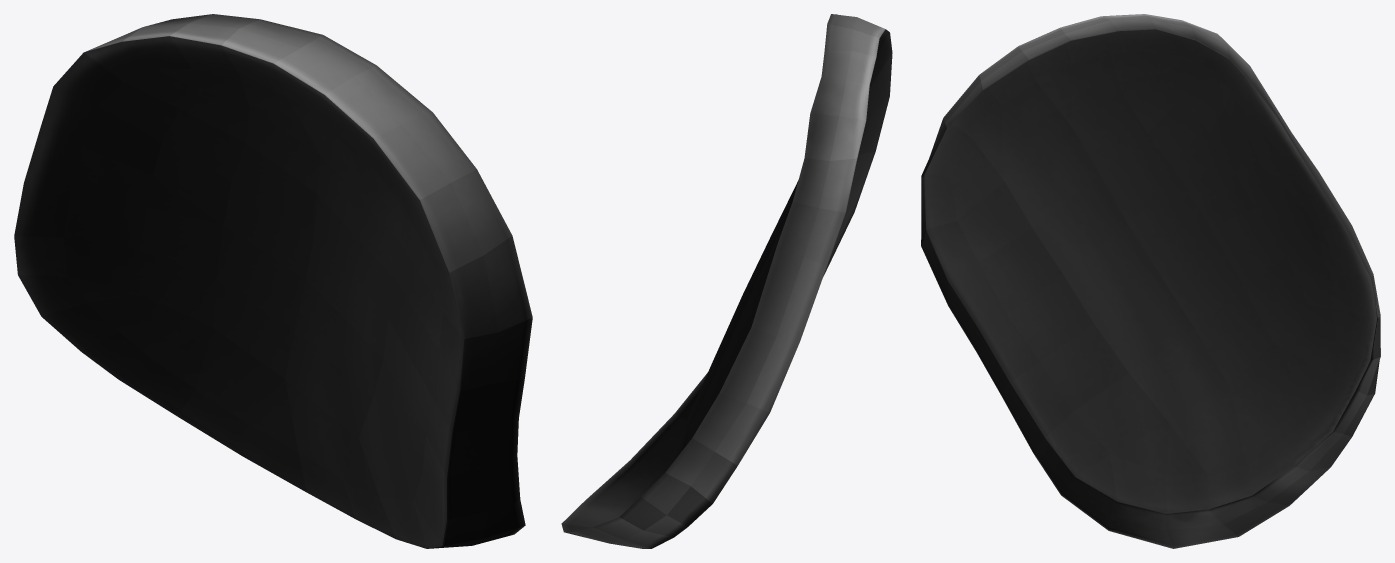
The model's file is pfd_mr_controller_right_grip.obj.
3 renders of one model, left to right at view 1: azimuth 30°, elevation 25°; view 2: azimuth 150°, elevation 25°; view 3: azimuth 270°, elevation 25°, orthographic. The views are drawn at different scales.
Parts seen in each view (by area): view 1: pfd_mr_controller_right_grip; view 2: pfd_mr_controller_right_grip; view 3: pfd_mr_controller_right_grip.
Boxes of the visible parts, x1=… form: pfd_mr_controller_right_grip: x1=14, y1=14, x2=532, y2=548; pfd_mr_controller_right_grip: x1=561, y1=14, x2=892, y2=548; pfd_mr_controller_right_grip: x1=921, y1=14, x2=1380, y2=548.
Size of the model in its own units: 0.0138 by 0.0209 by 0.0203.
Materials: 1 (1 with a texture image).
